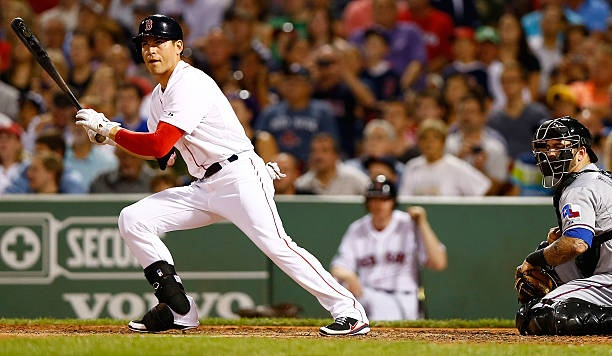bita: (7, 16, 106, 137)
